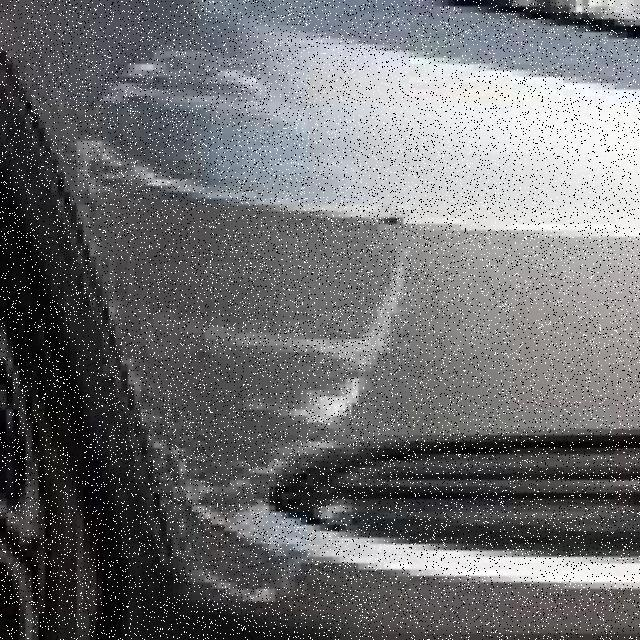car damage: (0, 19, 634, 639)
